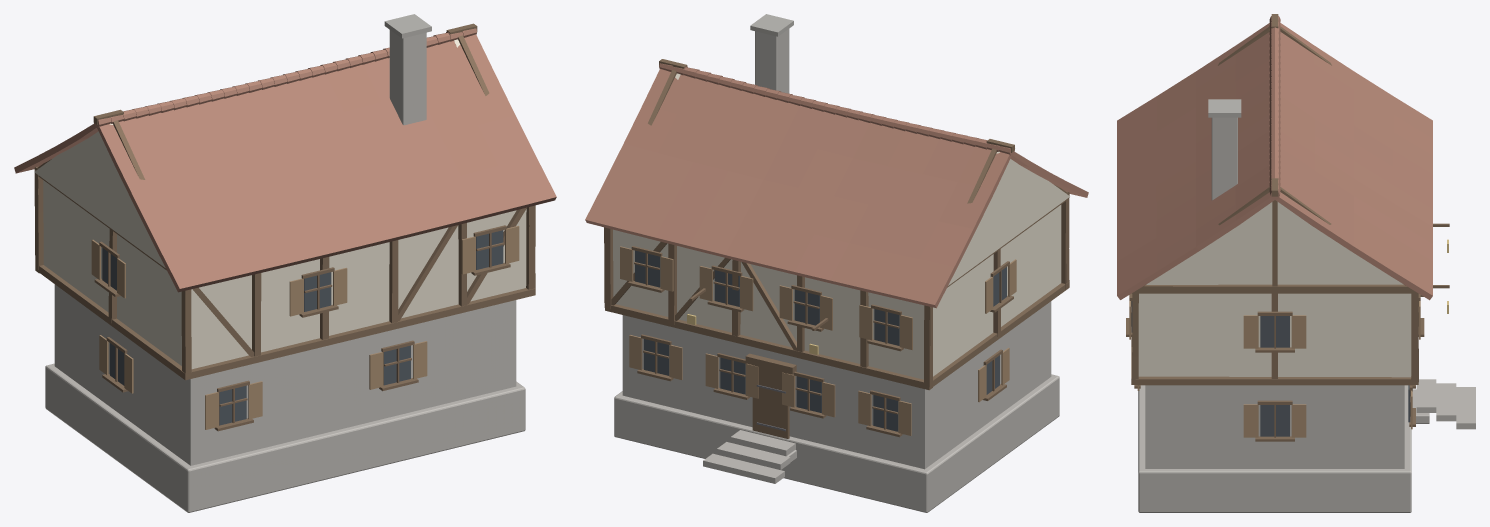
Rendered from vogthaus.glb.
3 renders of one model, left to right at view 1: azimuth 30°, elevation 25°; view 2: azimuth 150°, elevation 25°; view 3: azimuth 270°, elevation 25°, orthographic. The views are drawn at different scales.
Parts seen in each view (by area): view 1: vogthaus; view 2: vogthaus; view 3: vogthaus.
Part boxes in pixels (x1=…): vogthaus: x1=14, y1=14, x2=556, y2=512; vogthaus: x1=585, y1=14, x2=1088, y2=512; vogthaus: x1=1117, y1=14, x2=1475, y2=512.
Size of the model in its own units: 12.7 by 12.52 by 10.9.
